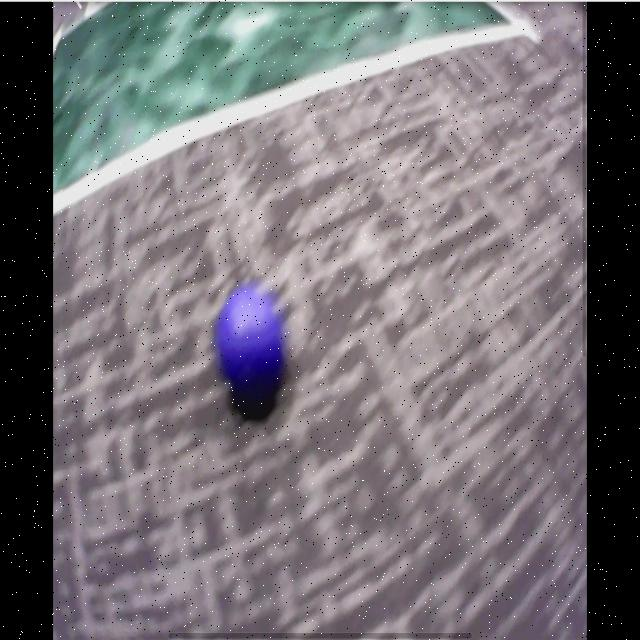ball: (220, 292, 282, 383)
